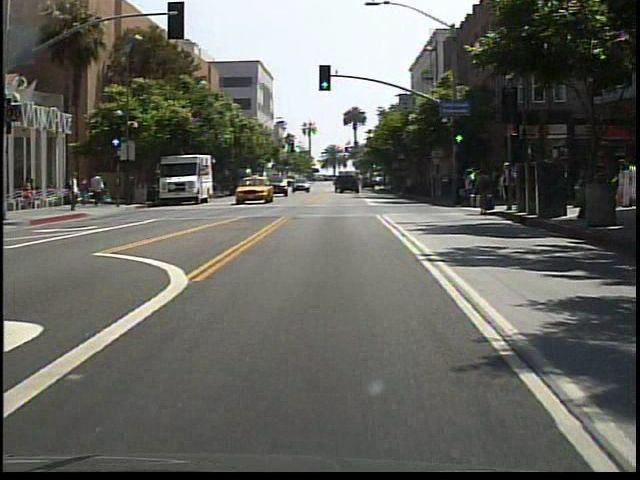person: (471, 163, 494, 219), (67, 169, 83, 214), (91, 169, 107, 206), (23, 175, 39, 212), (79, 174, 91, 205)
